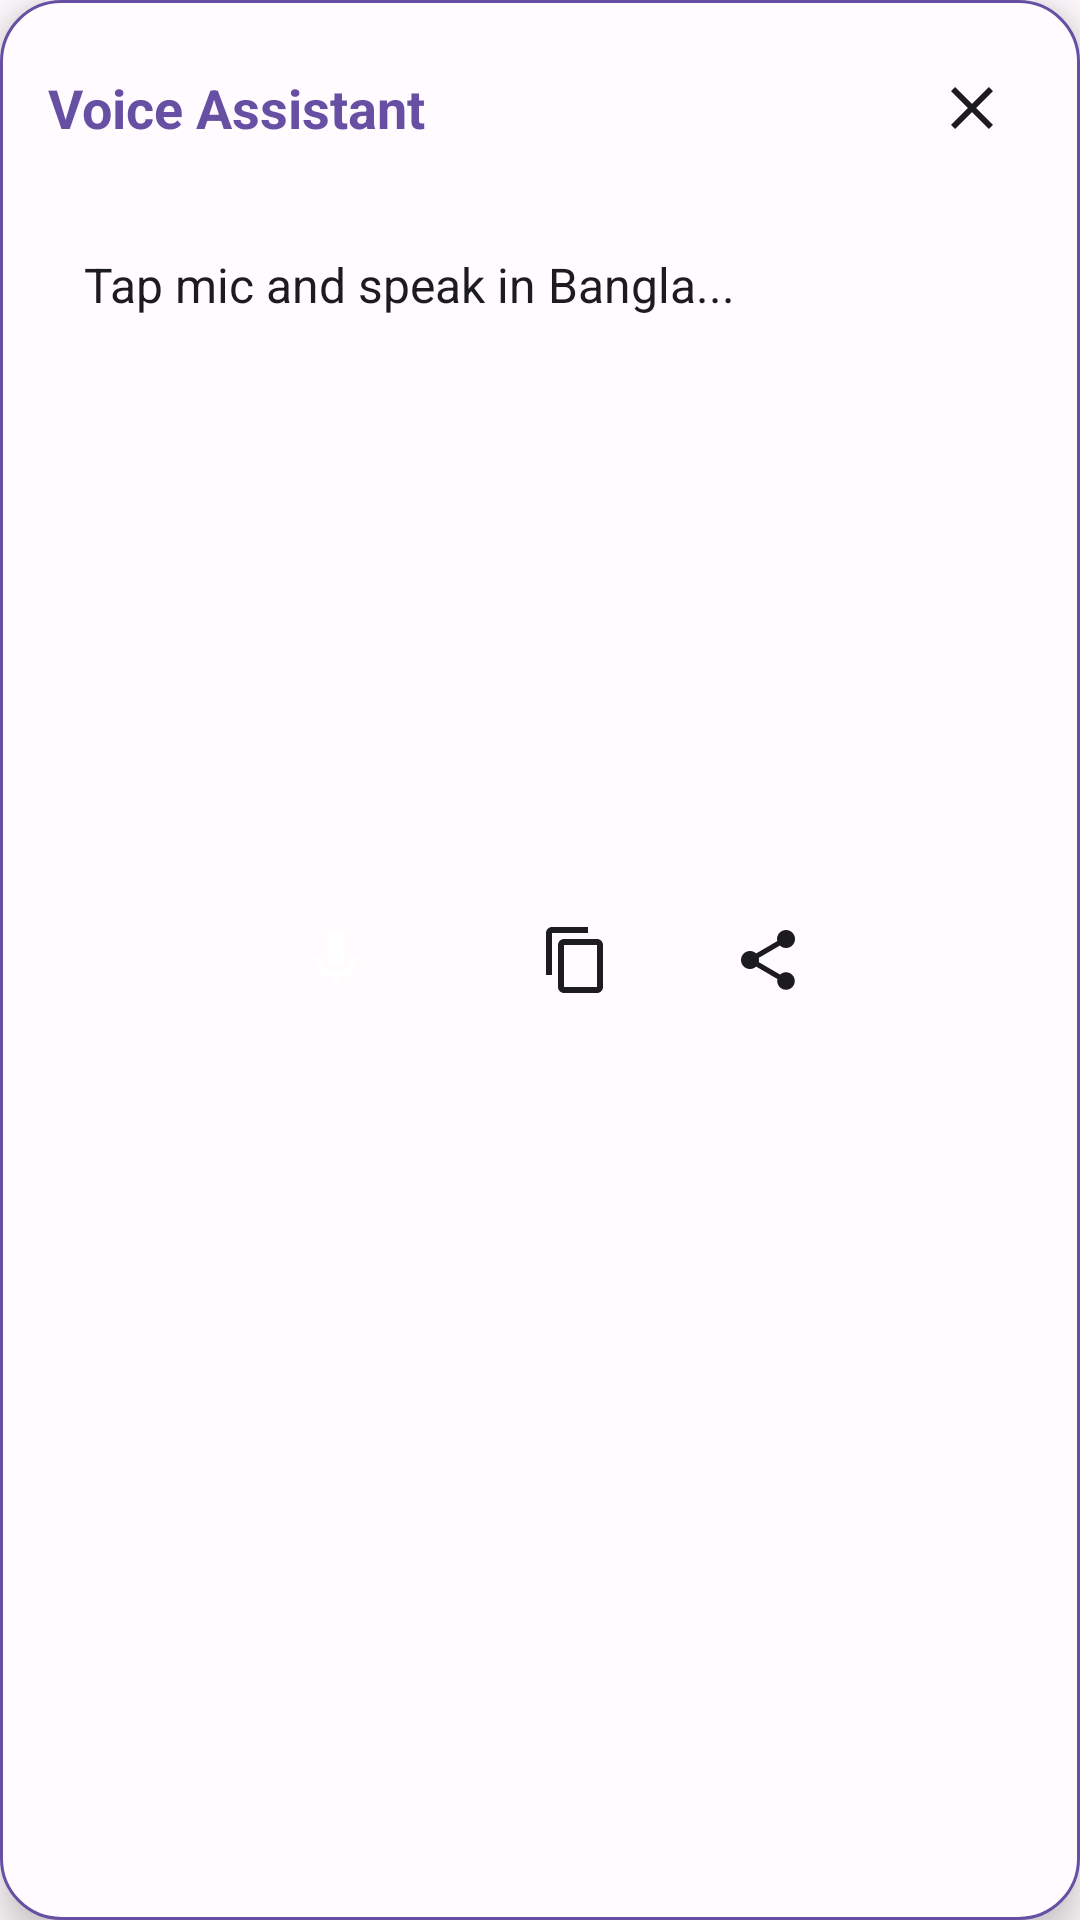

Icon click points for this 1080 × 1920 phone screenshot, format [x,y]:
Close: [972,108]
Copy: [574,960]
Share: [768,960]
